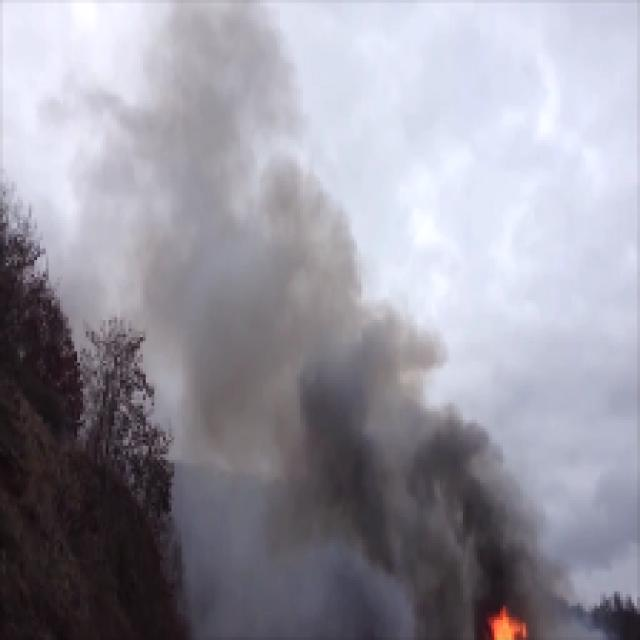smoke: (368, 441, 492, 612), (288, 288, 370, 490)
